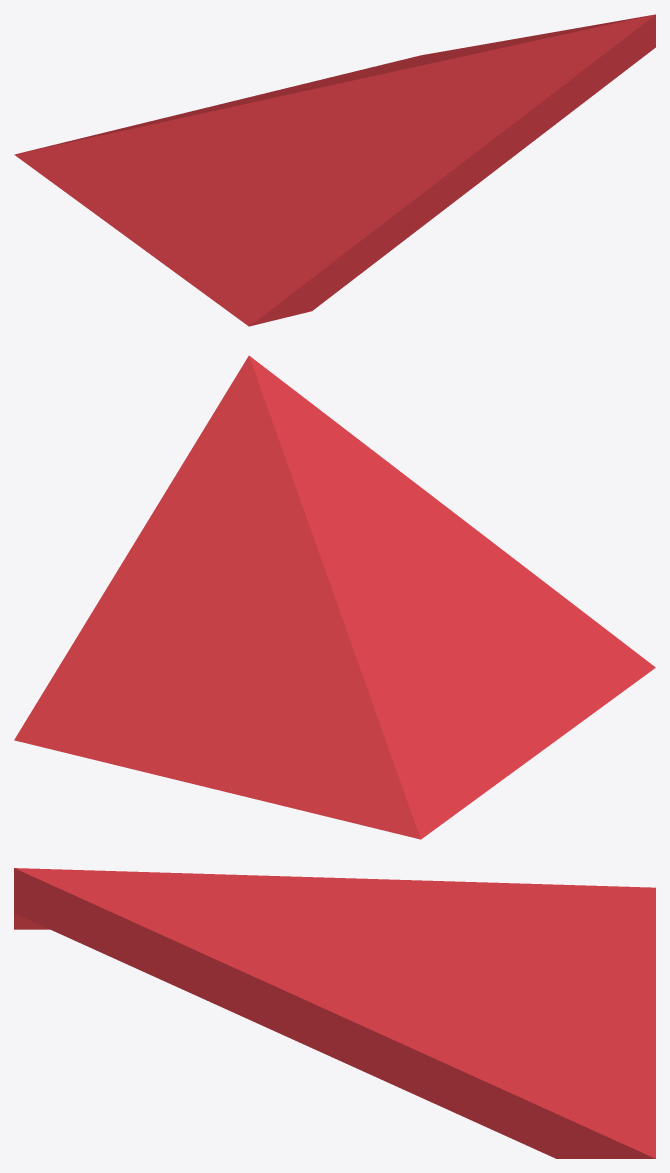
Rendered from roof_small_corner_outer.glb.
The picture shows the model from 3 angles, top to bottom: view 1: azimuth 30°, elevation 25°; view 2: azimuth 150°, elevation 25°; view 3: azimuth 270°, elevation 25°; orthographic projection. The views are drawn at different scales.
Visible parts, largest first — view 1: roof_small_corner_outer; view 2: roof_small_corner_outer; view 3: roof_small_corner_outer.
Boxes of the visible parts, x1,y1,x2,y2 form: roof_small_corner_outer: (14,14,655,326); roof_small_corner_outer: (14,355,655,839); roof_small_corner_outer: (14,868,655,1158).
Size of the model in its own units: 1.29 by 0.6447 by 1.29.
